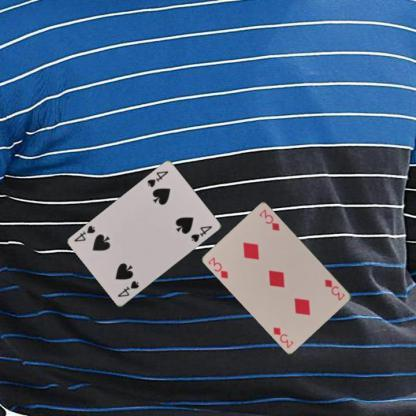3d: (322, 276, 346, 301), (206, 255, 229, 280)
4s: (144, 168, 170, 189), (115, 278, 140, 298)
